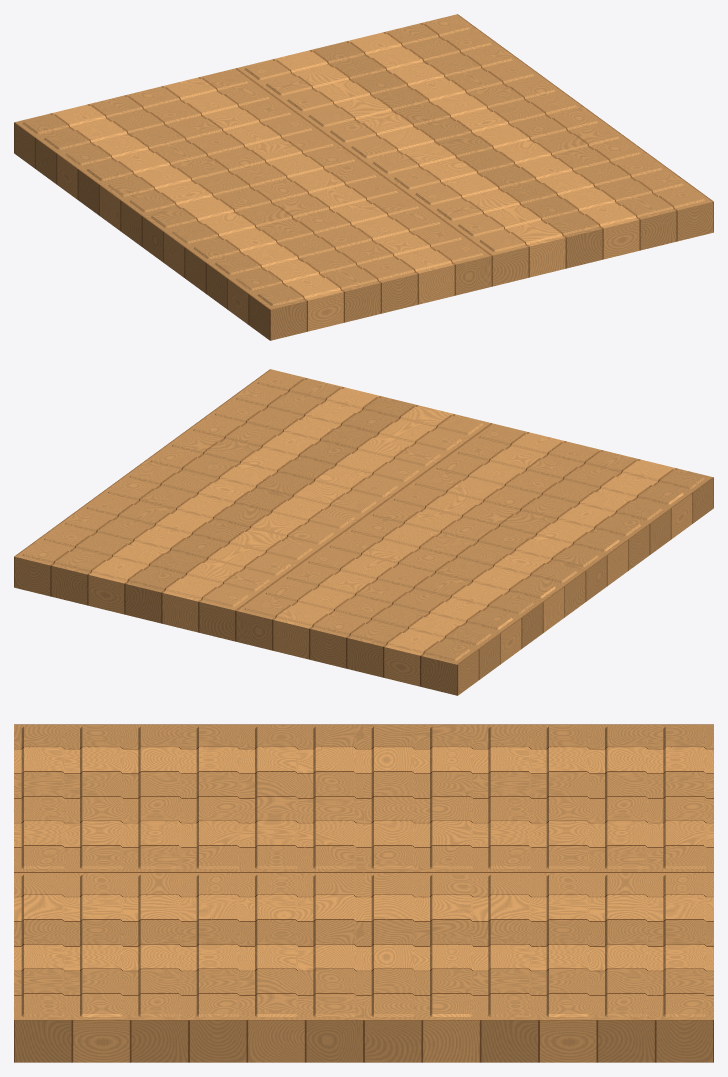
The model's file is Kit_Wood_Floor.fbx.
3 renders of one model, top to bottom at view 1: azimuth 30°, elevation 25°; view 2: azimuth 150°, elevation 25°; view 3: azimuth 270°, elevation 25°, orthographic. The views are drawn at different scales.
Parts seen in each view (by area): view 1: Kit_Wood_Floor_LOD0; view 2: Kit_Wood_Floor_LOD0; view 3: Kit_Wood_Floor_LOD0.
Part boxes in pixels (x1,y1,x2,y2): Kit_Wood_Floor_LOD0: (14, 14, 713, 340); Kit_Wood_Floor_LOD0: (14, 369, 713, 695); Kit_Wood_Floor_LOD0: (14, 724, 713, 1062).
Size of what is drawn, in the model's own units: 3 by 0.22 by 3.
